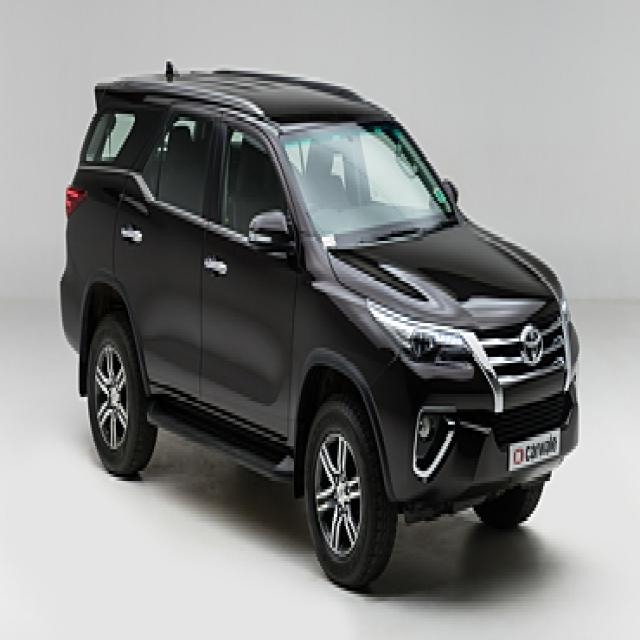light_vehicle: (58, 64, 580, 590)
